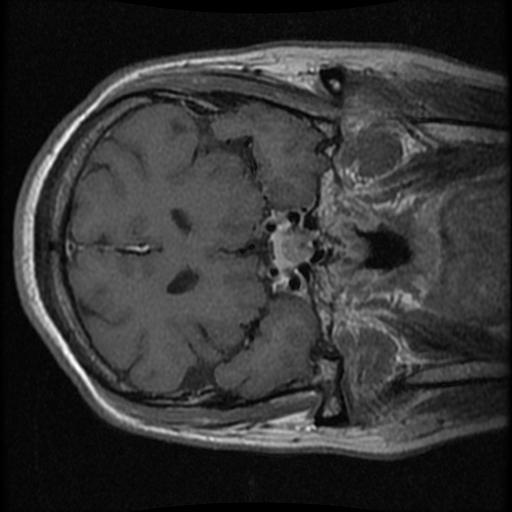pituitary tumour: (269, 223, 314, 269)
